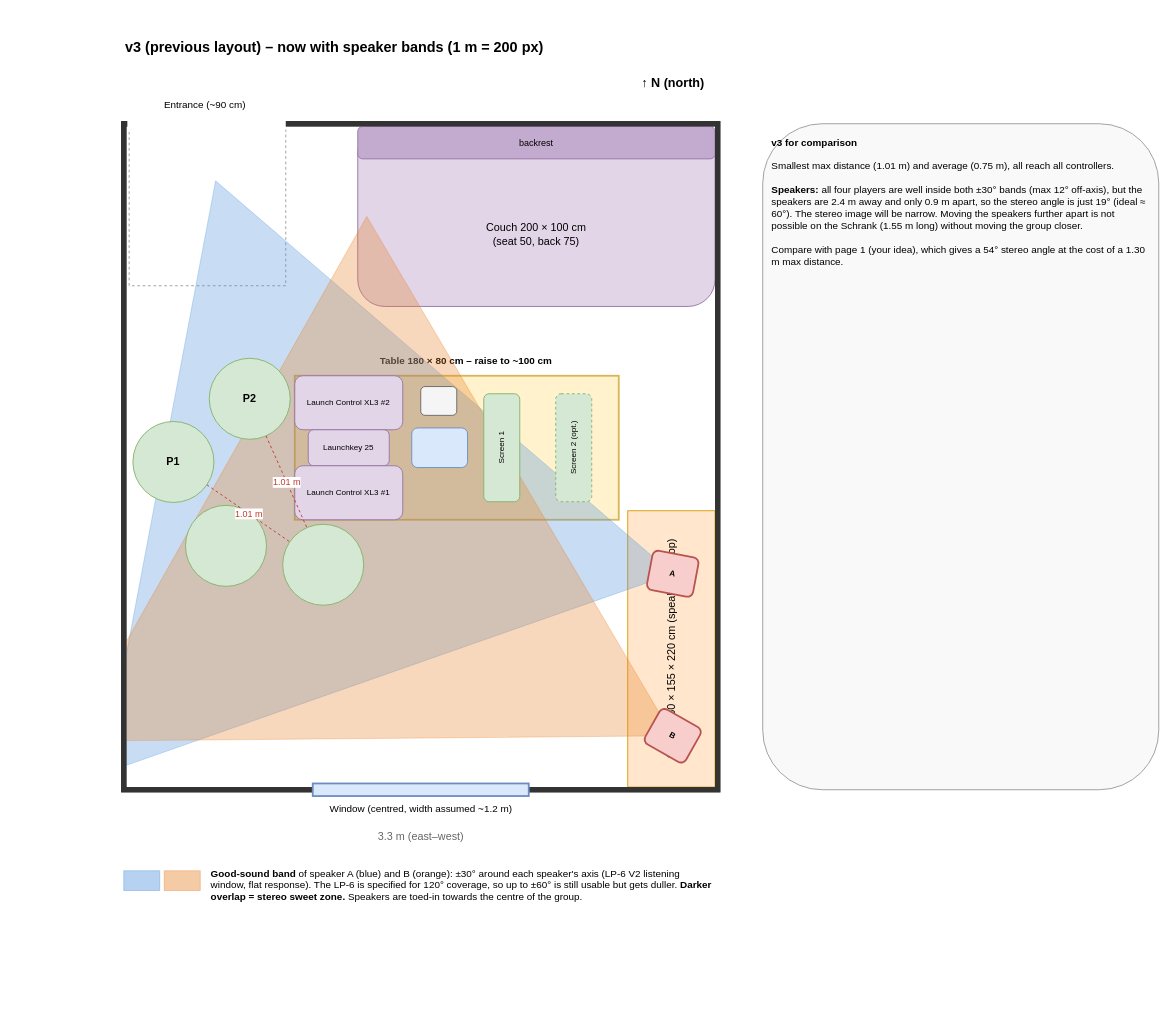
This 1175x1021 diagram has some shape labels left out. Here are the shapes that lost their labels. From the top down, the box of each, then its label:
(128, 128, 286, 286): door swing / keep clear
(420, 386, 457, 415): 2i2
(15, 121, 121, 792): 3.7 m (north–south)
(411, 427, 468, 468): MacBook
(185, 504, 266, 586): P3
(282, 523, 364, 605): P4
